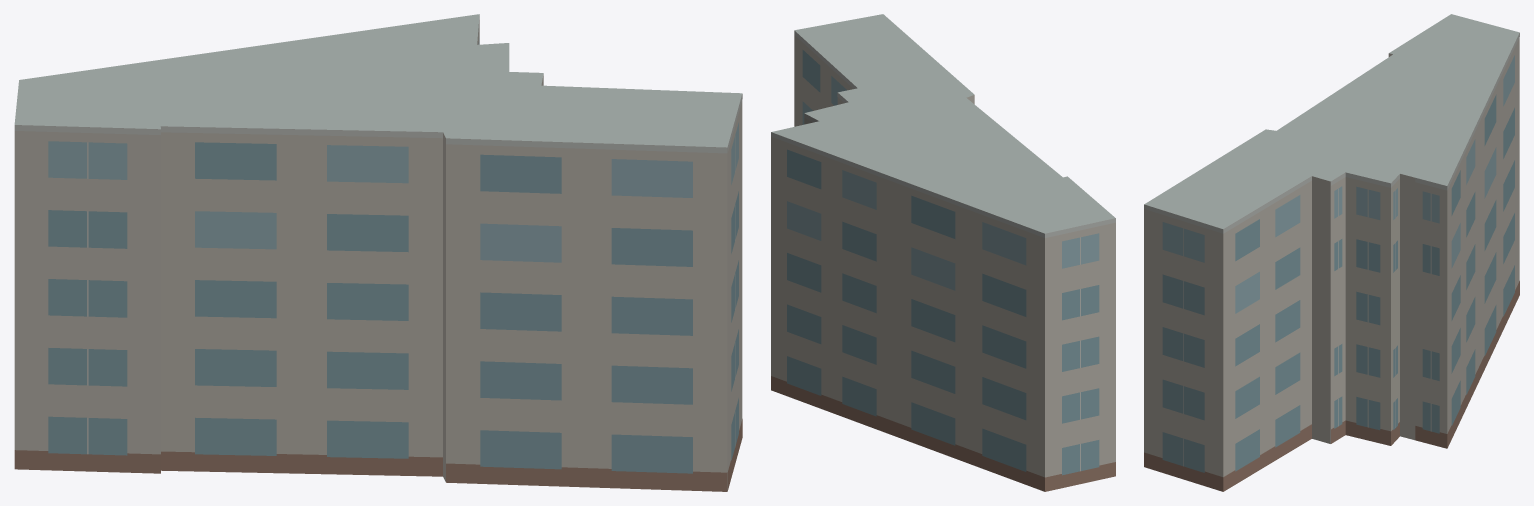
The model's file is survey-upis-32619126.glb.
3 views of the same model, side by side, from view 1: azimuth 30°, elevation 25°; view 2: azimuth 150°, elevation 25°; view 3: azimuth 270°, elevation 25° (orthographic). The views are drawn at different scales.
Visible parts, largest first — view 1: survey-upis-32619126.tmp; view 2: survey-upis-32619126.tmp; view 3: survey-upis-32619126.tmp.
Boxes of the visible parts, x1,y1,x2,y2 form: survey-upis-32619126.tmp: [14, 14, 742, 491]; survey-upis-32619126.tmp: [771, 14, 1115, 491]; survey-upis-32619126.tmp: [1144, 14, 1519, 491].
Bounding box in the file's own units: 24.79 × 14.1 × 18.29.
